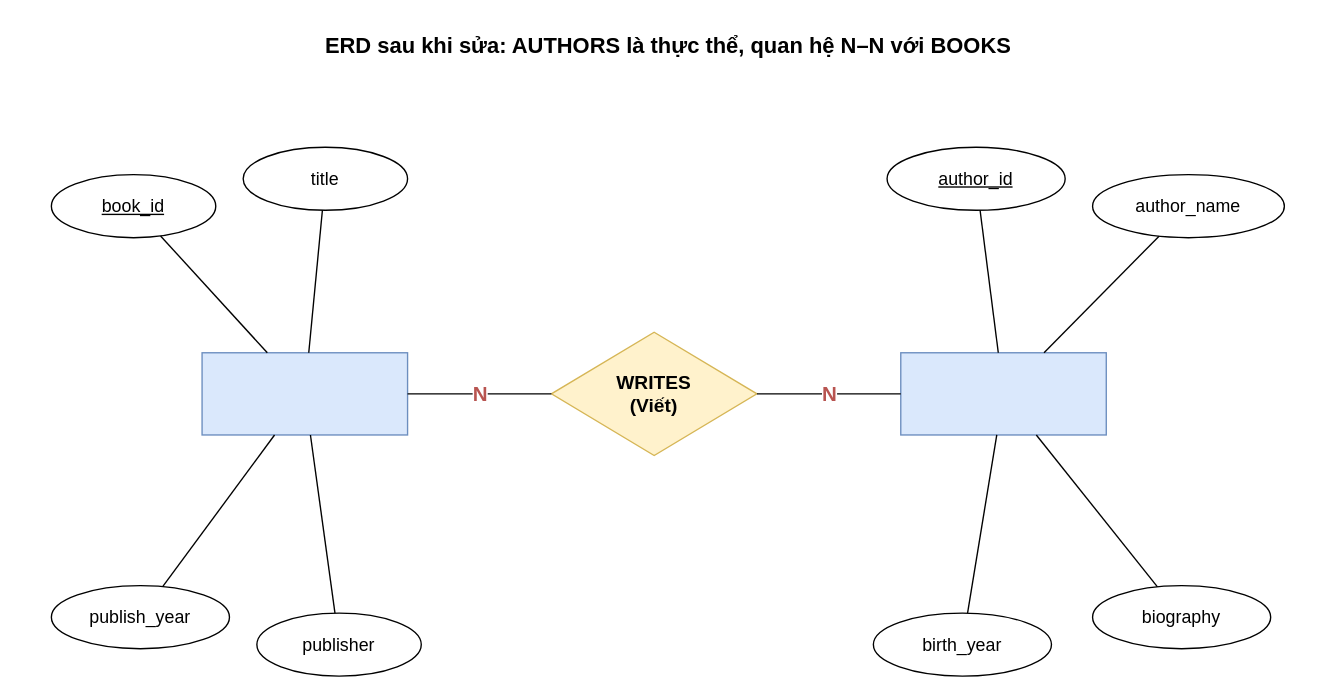
Some shapes in this 1334 by 700 pixel diagram are drawn without their labels. Here are the shapes that lost their labels. From the top down, the centre of each, then its label:
[304,393]: BOOKS
[1002,393]: AUTHORS
